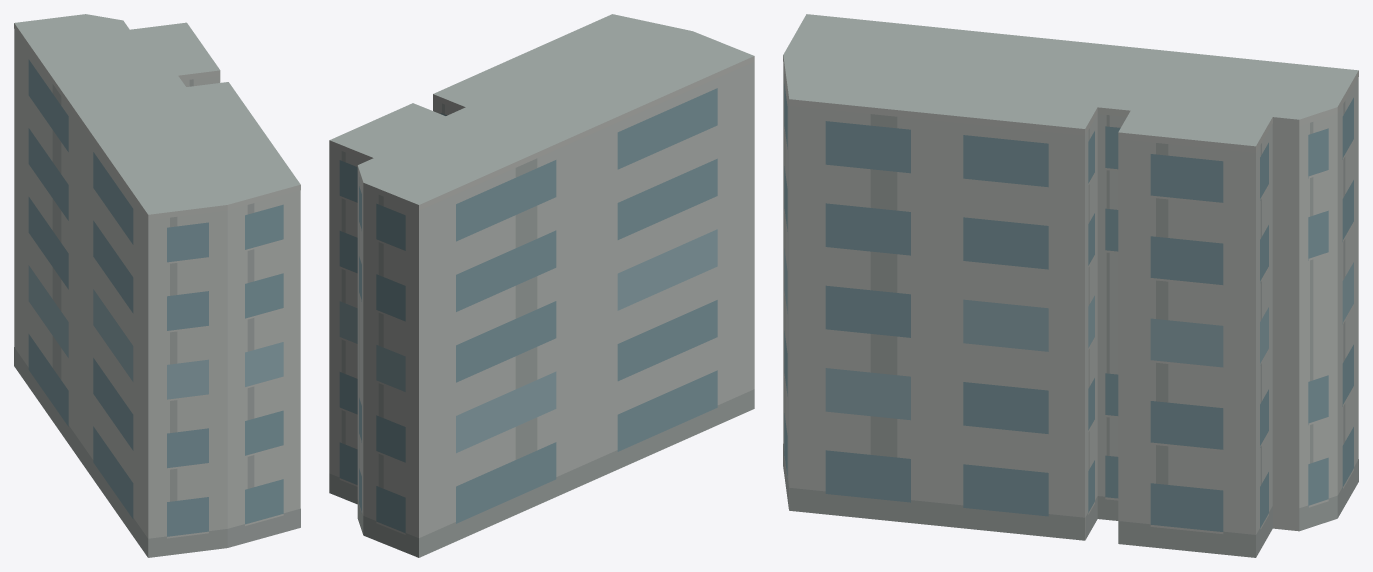
Rendered from survey-upis-33015636.glb.
3 renders of one model, left to right at view 1: azimuth 30°, elevation 25°; view 2: azimuth 150°, elevation 25°; view 3: azimuth 270°, elevation 25°, orthographic. The views are drawn at different scales.
Visible parts, largest first — view 1: survey-upis-33015636.tmp; view 2: survey-upis-33015636.tmp; view 3: survey-upis-33015636.tmp.
Part boxes in pixels (x1=…): survey-upis-33015636.tmp: x1=14, y1=14, x2=300, y2=557; survey-upis-33015636.tmp: x1=329, y1=14, x2=754, y2=557; survey-upis-33015636.tmp: x1=783, y1=14, x2=1358, y2=557.
Size of the model in its own units: 10.35 by 15 by 19.02.
